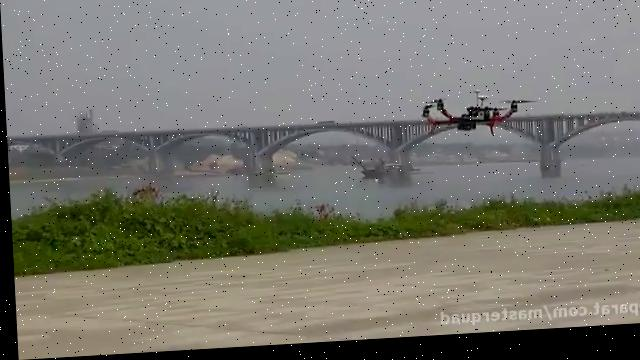drone: (416, 89, 542, 147)
